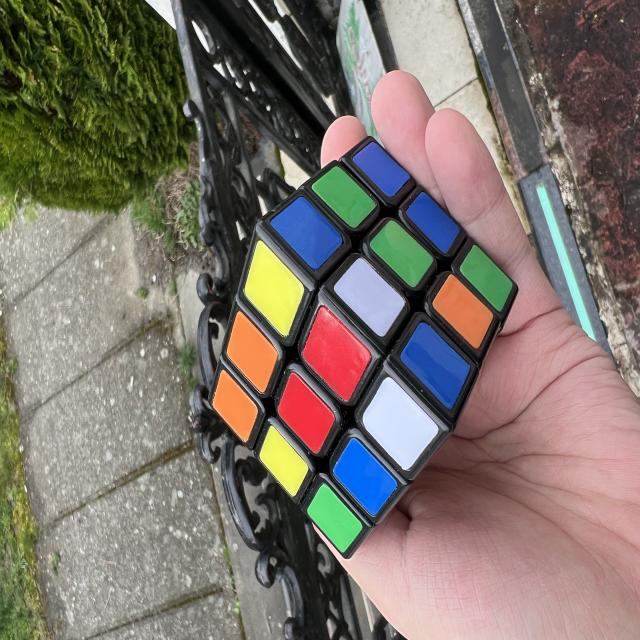blue: (391, 319, 482, 411), (322, 435, 404, 518), (269, 193, 347, 272), (402, 190, 466, 255), (350, 138, 412, 200)
center: (263, 370, 346, 455), (366, 218, 439, 289)
green: (297, 481, 369, 555), (453, 243, 521, 313), (310, 162, 378, 230)
orange: (209, 309, 293, 395), (425, 273, 503, 351), (198, 368, 271, 444)
red: (284, 303, 384, 404)
white: (349, 375, 445, 472), (329, 255, 413, 339)
yellow: (223, 239, 321, 338), (247, 425, 318, 498)
